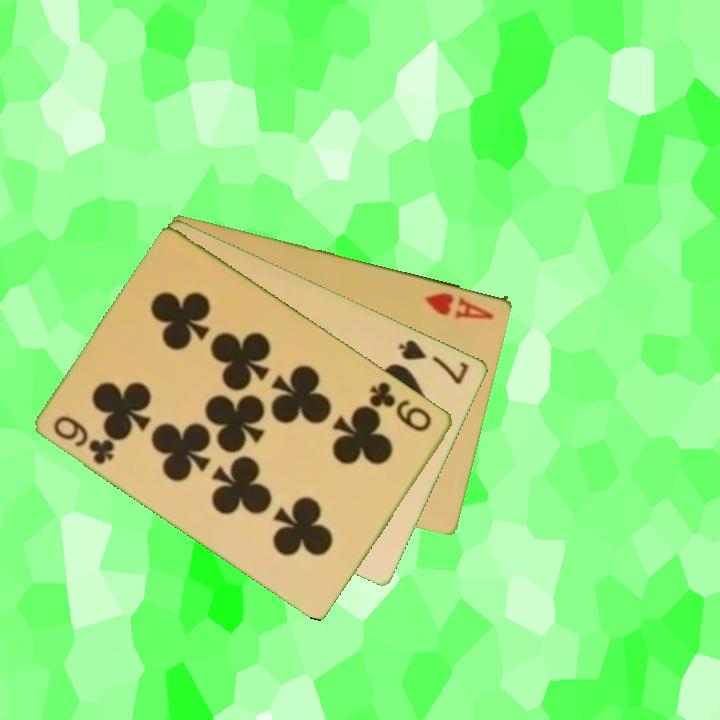7s: (395, 336, 472, 387)
9c: (366, 378, 436, 435), (50, 412, 118, 468)
Ah: (421, 288, 498, 322)
